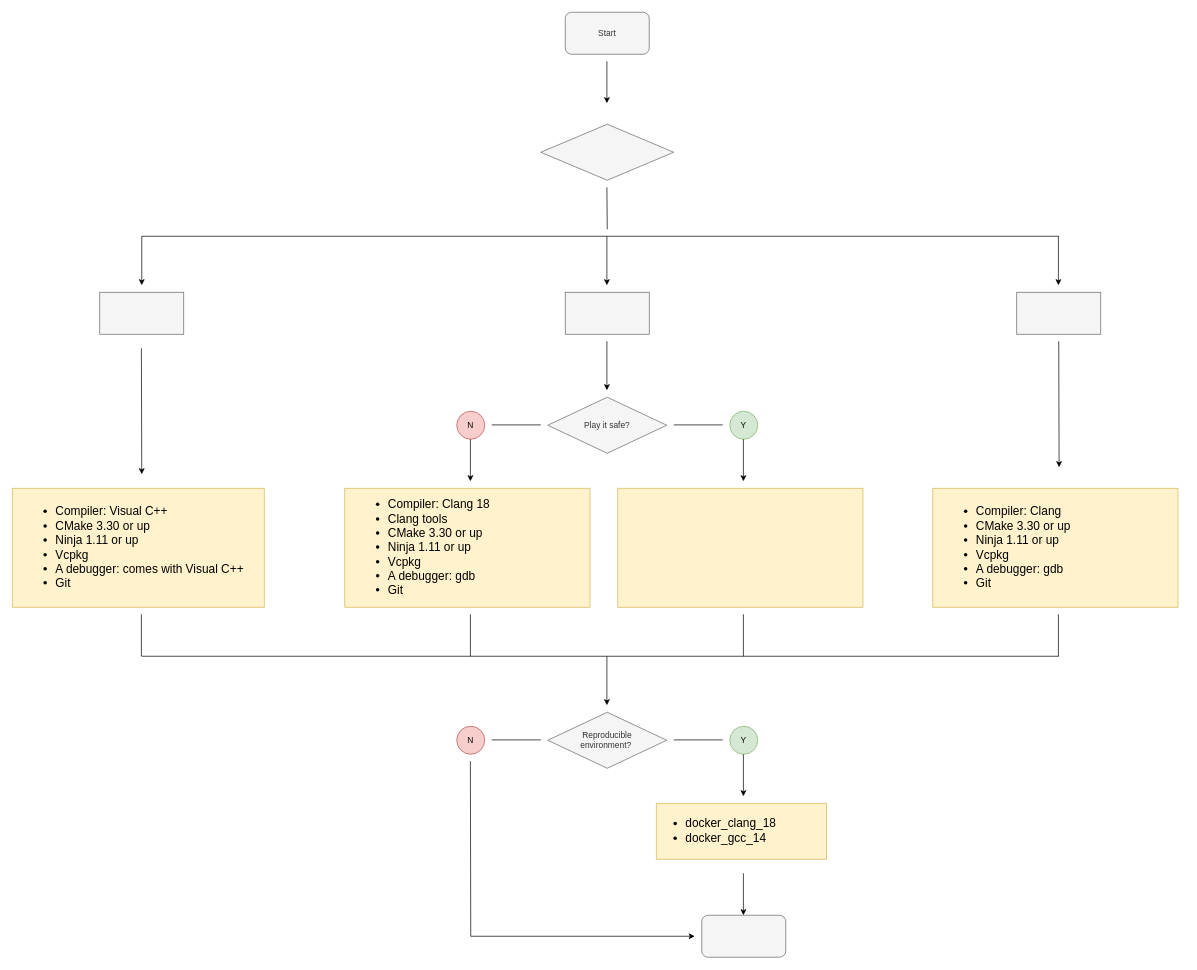
Image size: 1197x970. Some labels were removed from this diagram. The centre of each missing label's shape, as x and y in pixels:
"Compiler: GCC 14 CMake 3.30 or up Ninja 1.11 or up Vcpkg A debugger: gdb Git" goes at [740,547].
"End" goes at [743,936].
"Linux" goes at [607,313].
"Mac" goes at [1058,313].
"Operating System" goes at [607,152].
"Windows (11)" goes at [141,313].
